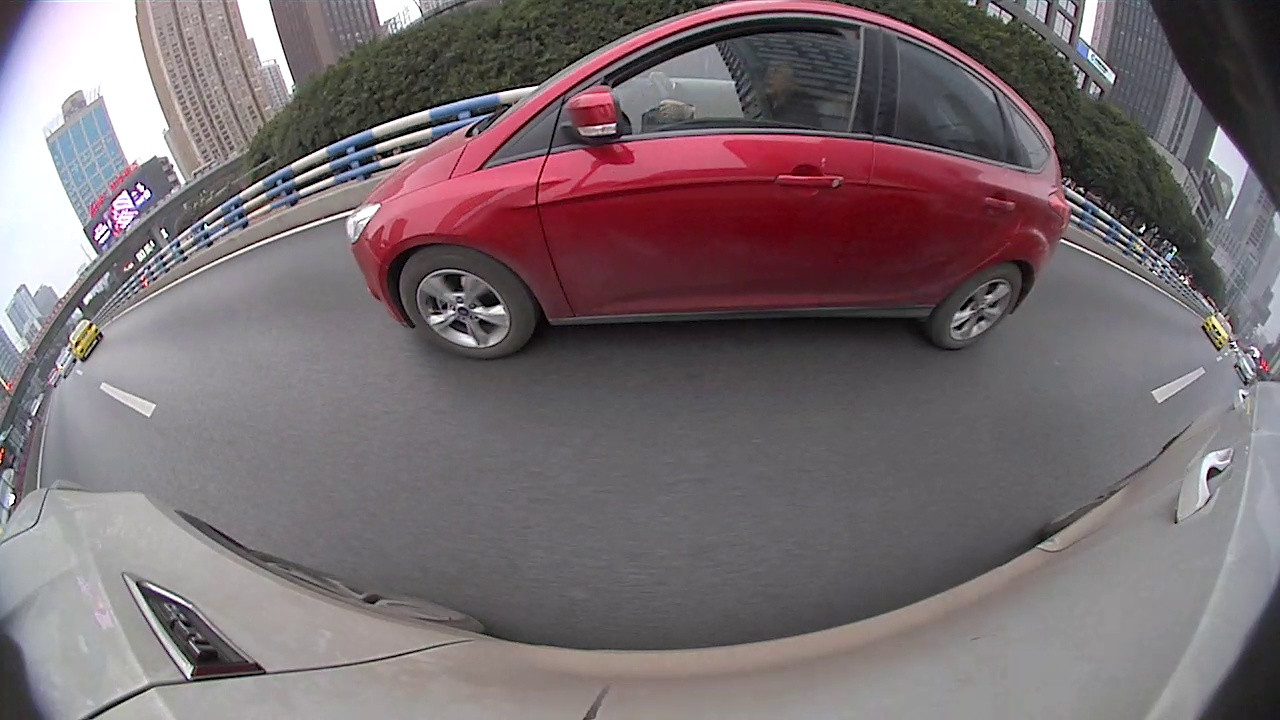car: (345, 1, 1068, 361), (65, 320, 105, 362), (1202, 311, 1233, 352)
front: (395, 248, 539, 357)
rear: (928, 263, 1026, 348)
